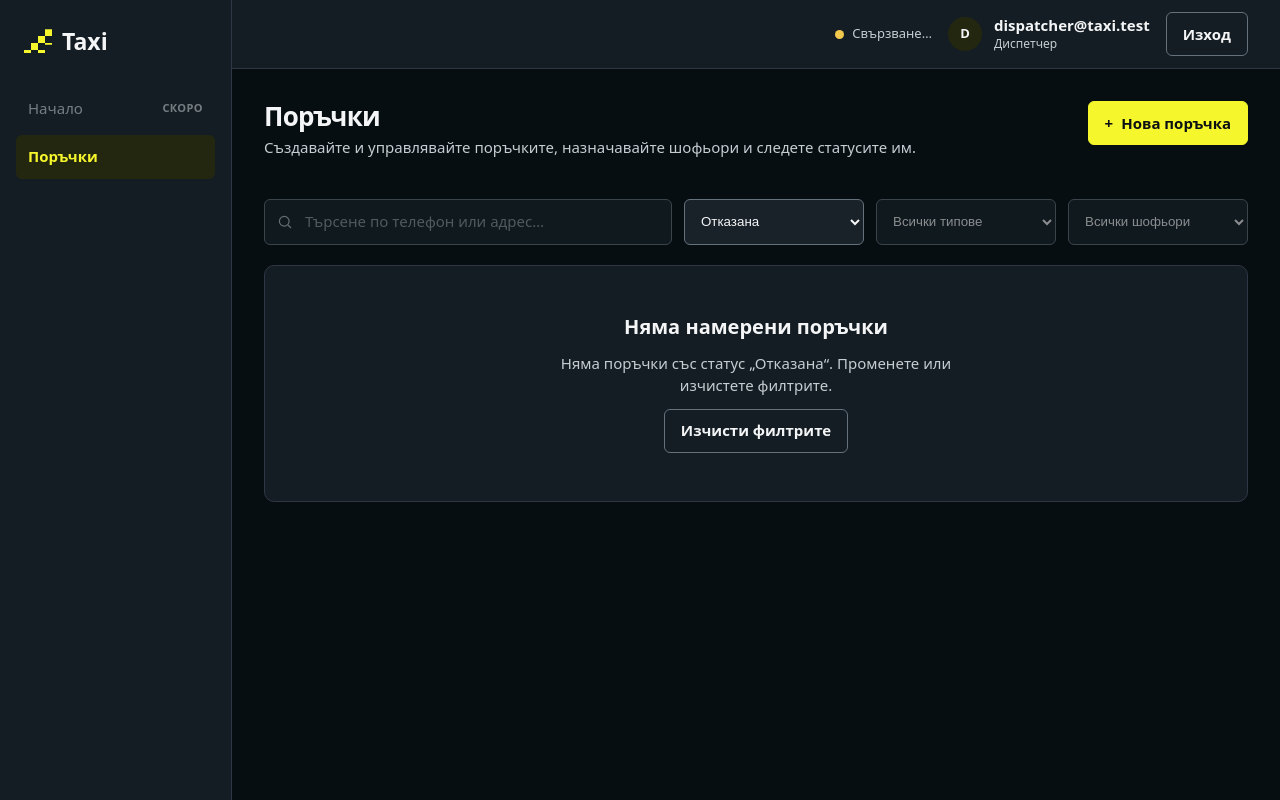
Test: RidesPage (mocked ride port, not live integration) › list › explains an empty filtered result and clears the filter
Expected: the heading "Няма намерени поръчки" is shown, [624,314,888,340]
What coordinates should you click on to do the following:
click the button "Изчисти филтрите"
I would click on:
 (756, 431)
Its box is [664,409,848,453].
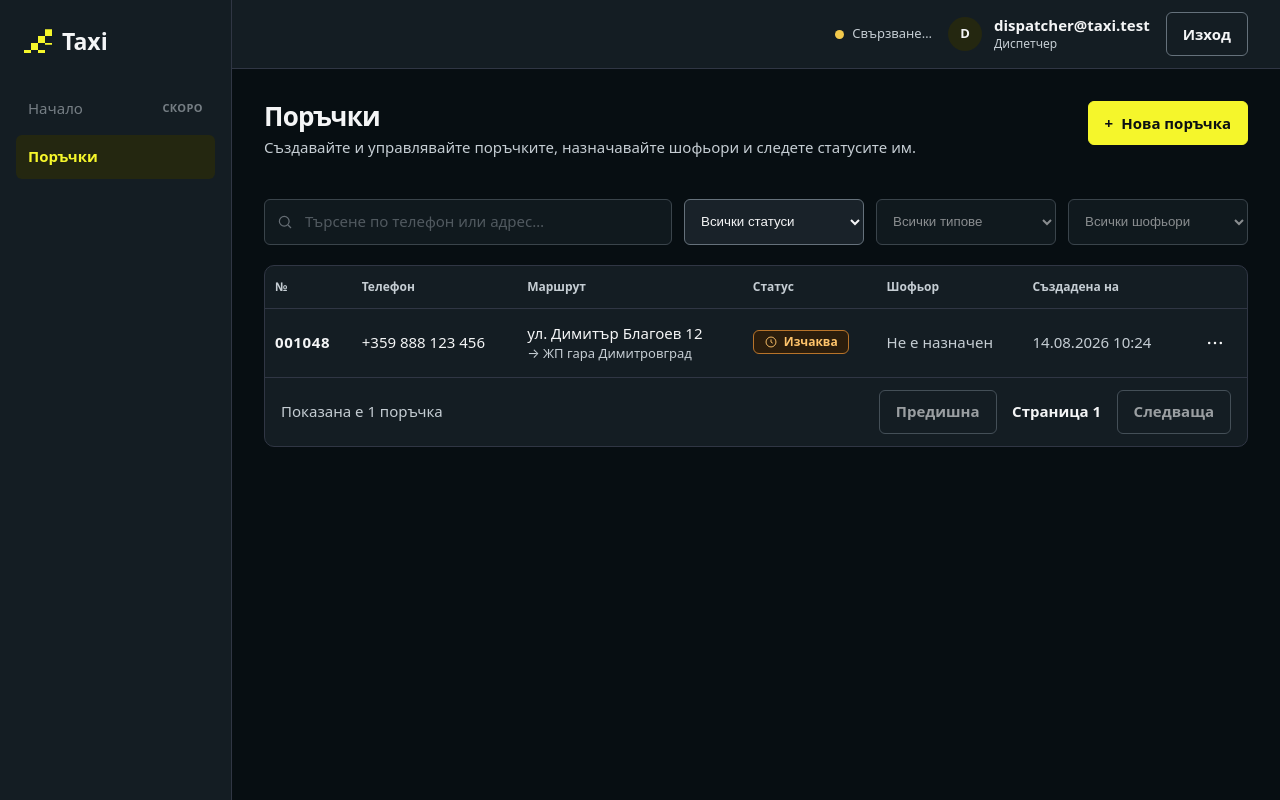
Expected: the column heading "001048" is shown, [265,309,352,377]
